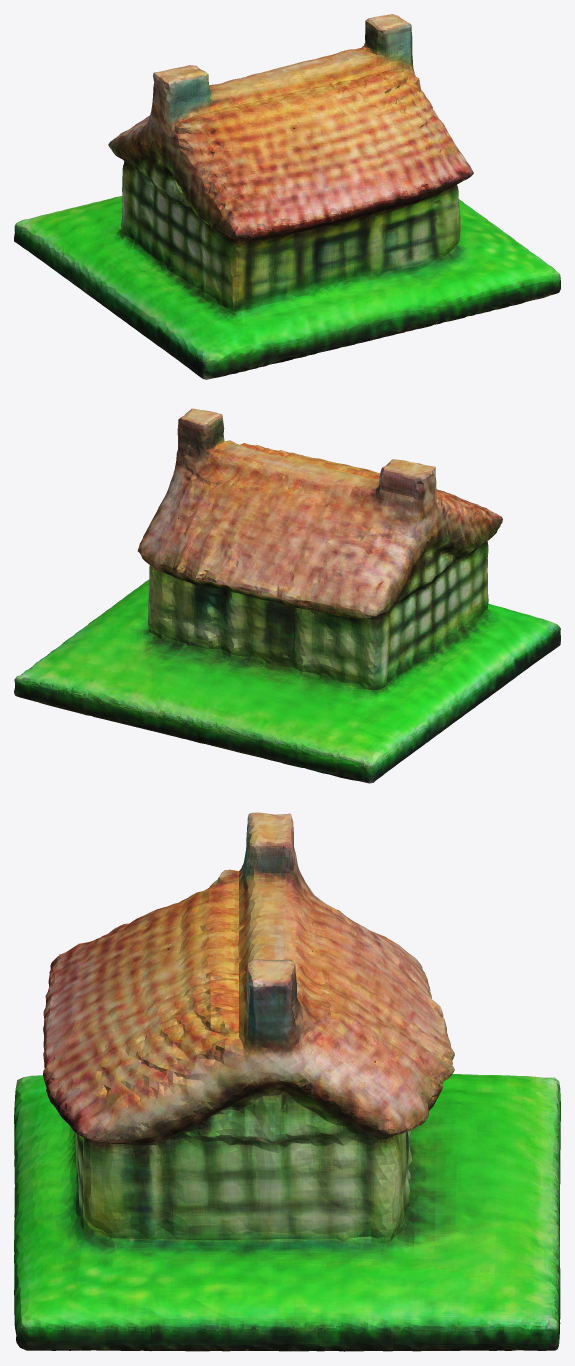
The model's file is a house_4.glb.
The picture shows the model from 3 angles, top to bottom: view 1: azimuth 30°, elevation 25°; view 2: azimuth 150°, elevation 25°; view 3: azimuth 270°, elevation 25°; orthographic projection. The views are drawn at different scales.
Bounding box in the file's own units: 0.9812 × 0.6258 × 0.9095.
Materials: 1 (1 with a texture image).
